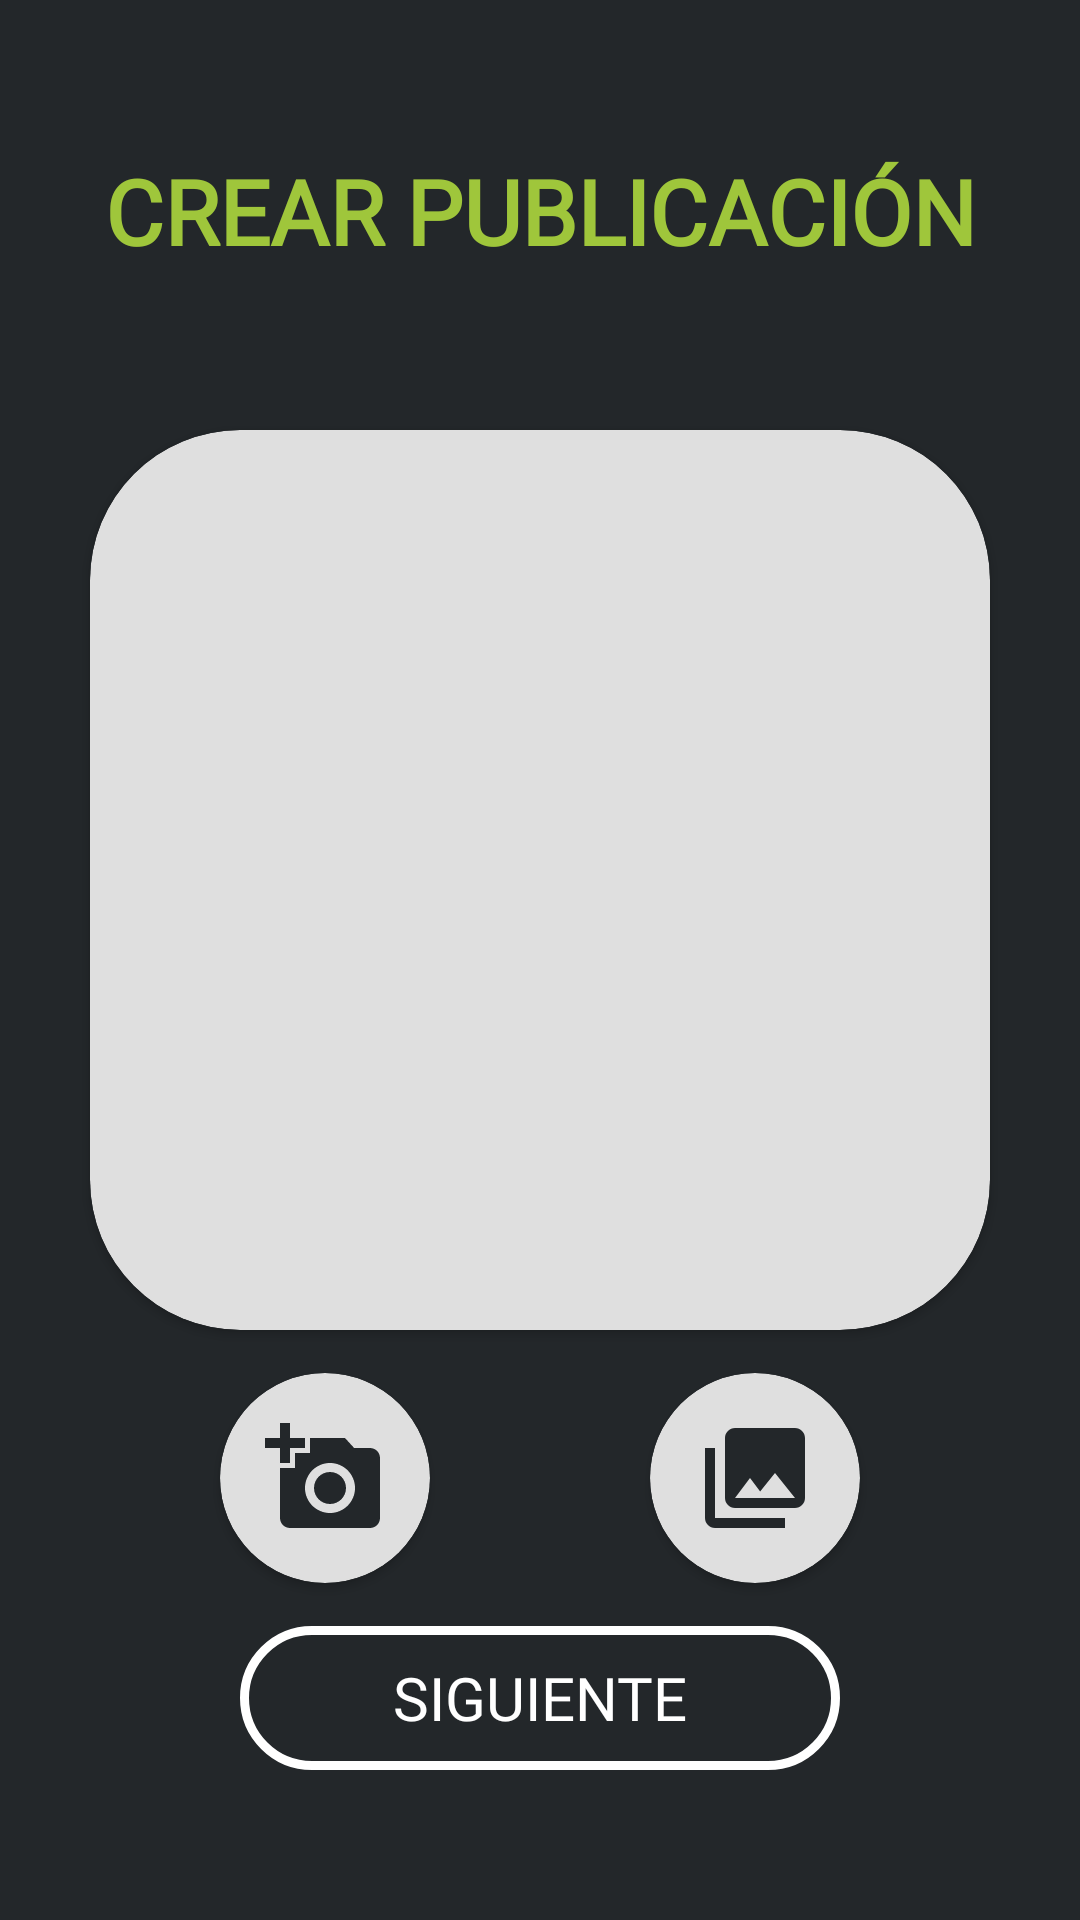

Icons on this 1080x1920 Android screen, each with the point to tap as point (x, y):
photo: point (325, 1478)
photo libreria: point (755, 1478)
